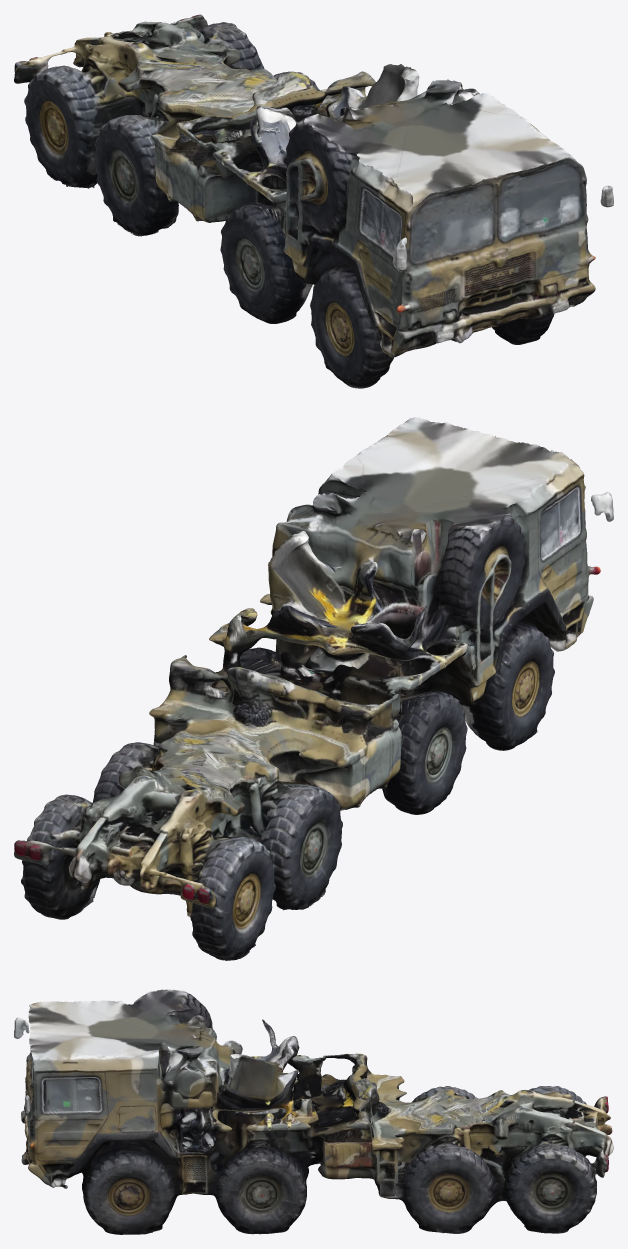
File: sf-man-kat-ii-8x8-truck-raw-3d-scan-b09422.glb
3 renders of one model, top to bottom at view 1: azimuth 30°, elevation 25°; view 2: azimuth 150°, elevation 25°; view 3: azimuth 270°, elevation 25°, orthographic. The views are drawn at different scales.
Visible parts, largest first — view 1: Model_material0_0; view 2: Model_material0_0; view 3: Model_material0_0.
Boxes of the visible parts, x1=… form: Model_material0_0: x1=14, y1=14, x2=613, y2=388; Model_material0_0: x1=14, y1=417, x2=613, y2=960; Model_material0_0: x1=14, y1=989, x2=613, y2=1234.
Bounding box in the file's own units: 19.01 × 19.26 × 57.69.
Materials: 1 (1 with a texture image).
